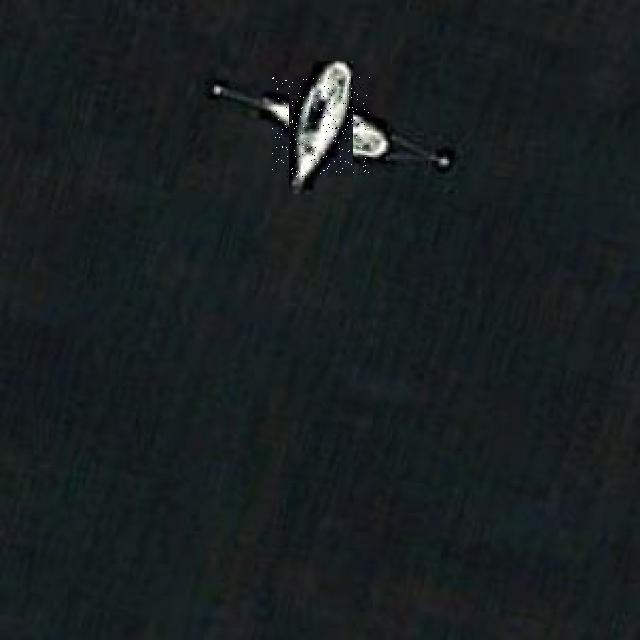boat: (272, 77, 370, 177)
